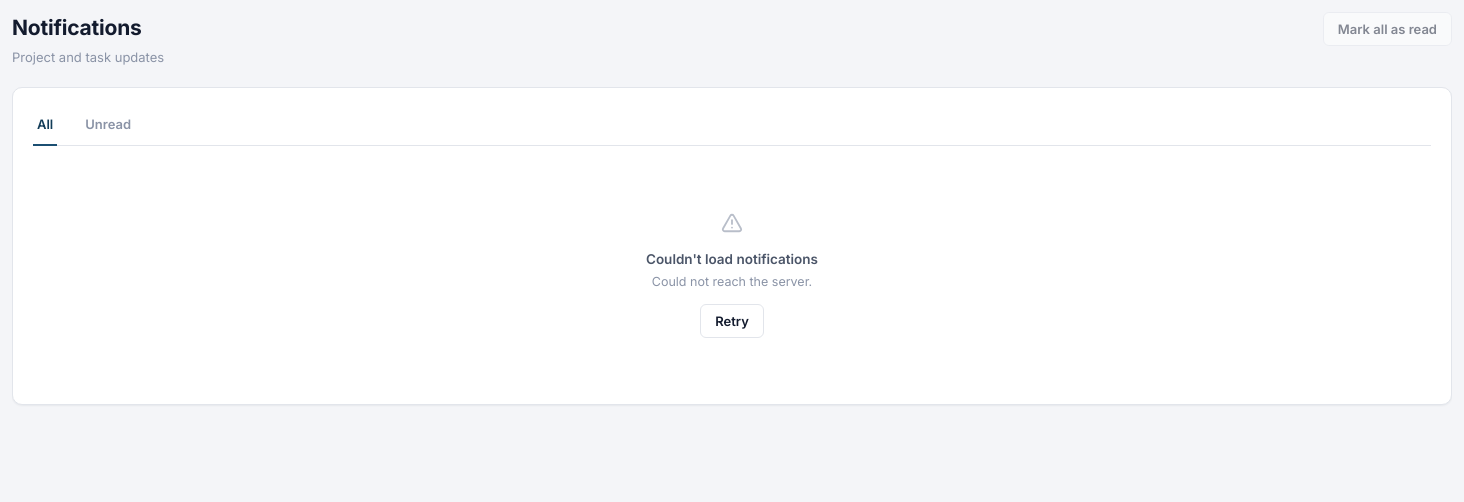
Notifications page › offers a retry when loading fails
Check: the text "Could not reach the server." is shown, box x1=652 y1=274 x2=812 y2=289
Click the button "Retry": (732, 320) x1=700 y1=304 x2=764 y2=338
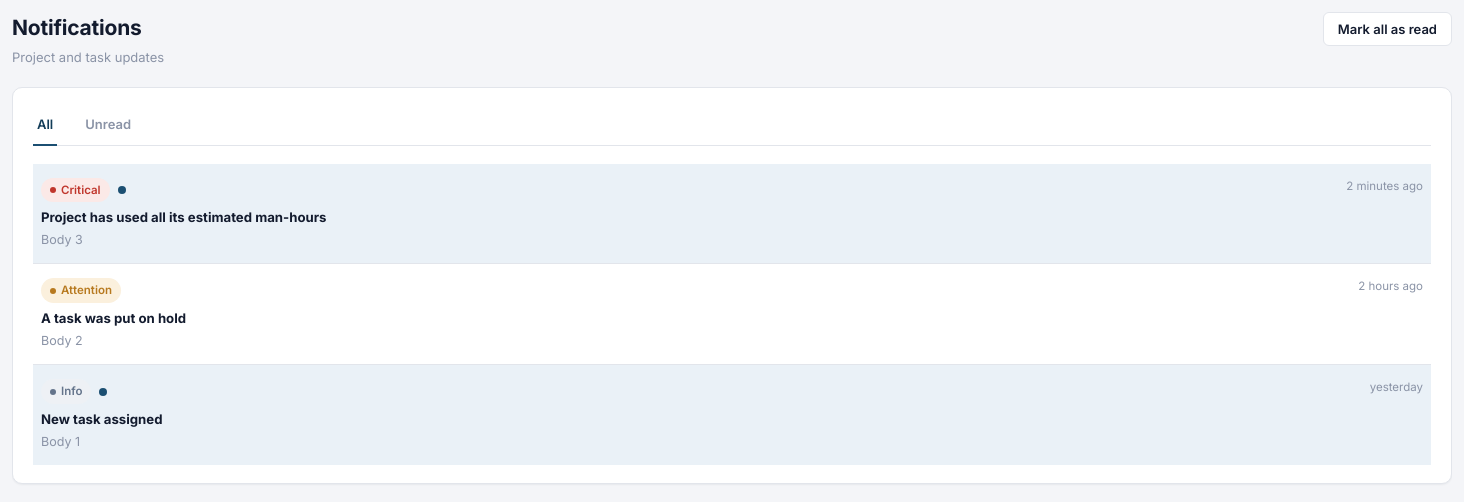
Check: the element with test id "notification-list" is shown, box x1=33 y1=164 x2=1431 y2=465
